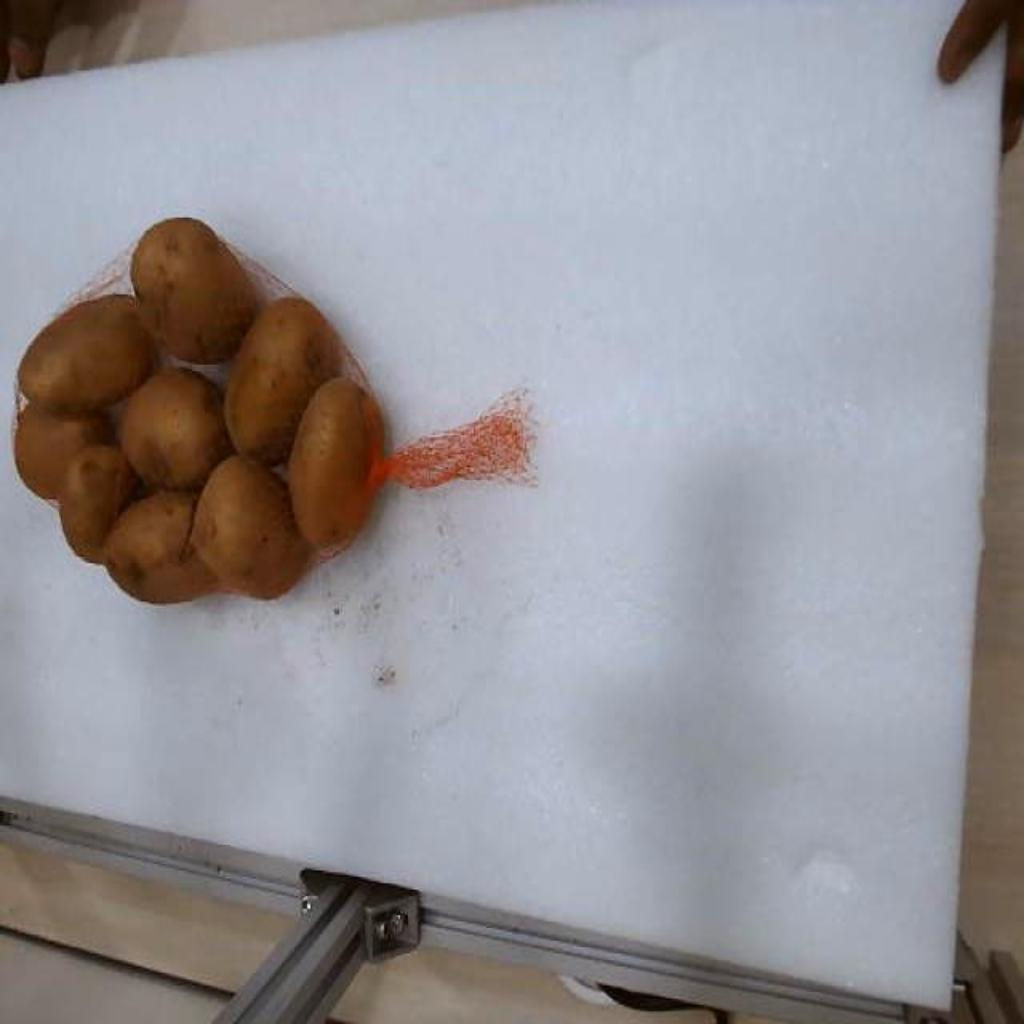potato: (104, 456, 312, 603), (224, 296, 342, 463), (130, 219, 256, 361), (288, 376, 384, 548), (18, 296, 154, 412), (120, 368, 232, 489), (60, 445, 140, 561), (18, 403, 114, 499), (104, 493, 196, 575)
